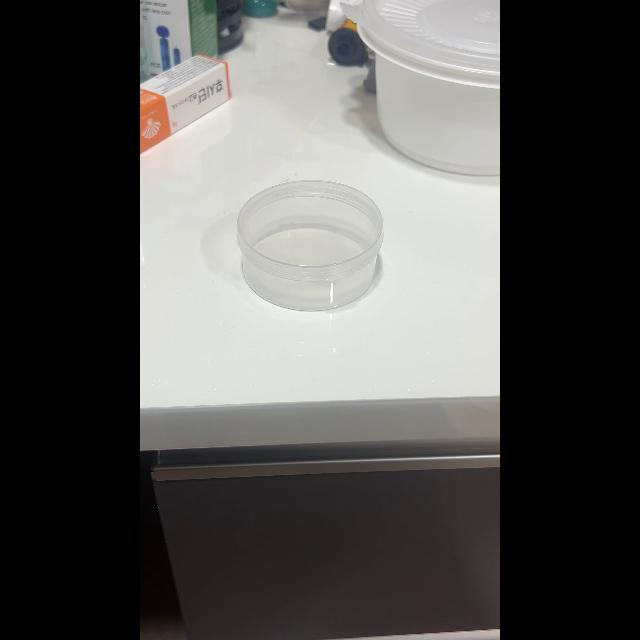clean: (236, 178, 384, 310)
